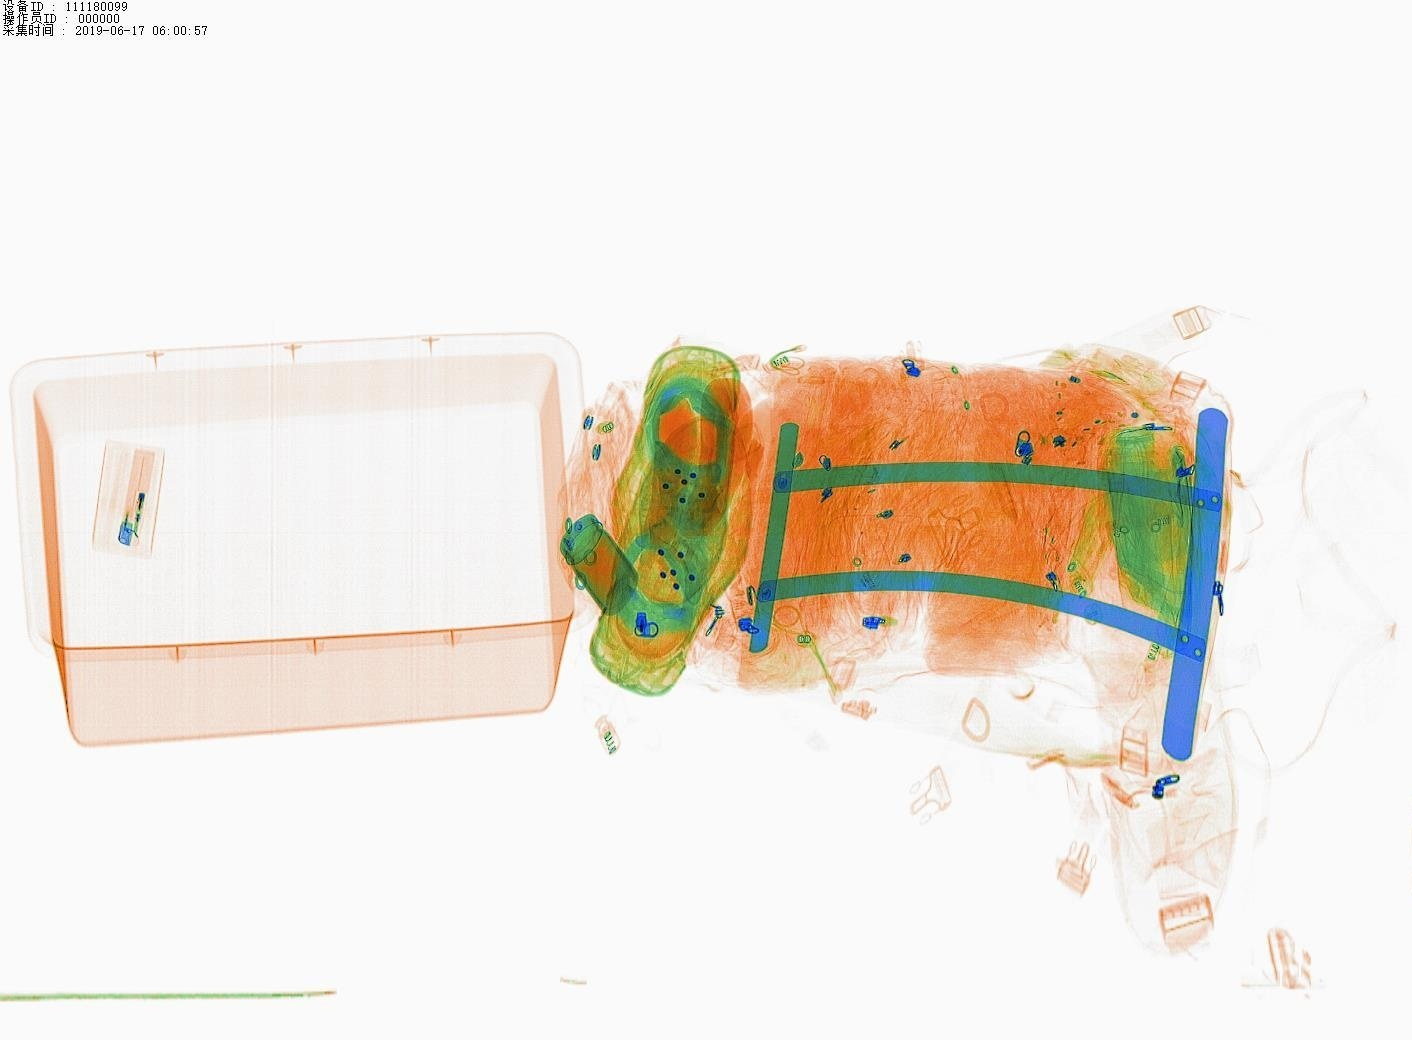NonmetallicFire: (92, 428, 169, 567)
